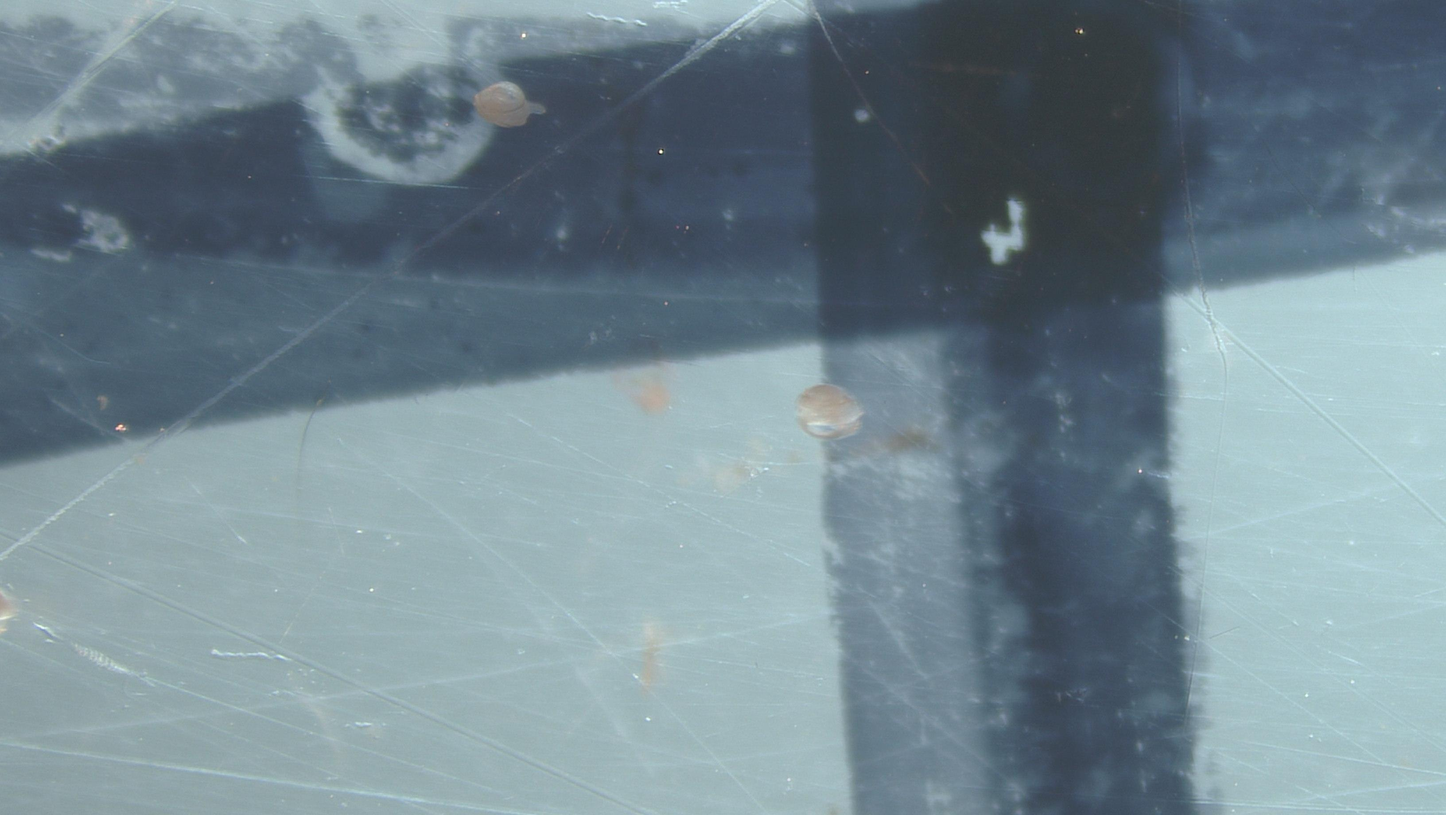live: (797, 384, 864, 440), (473, 82, 545, 128)
